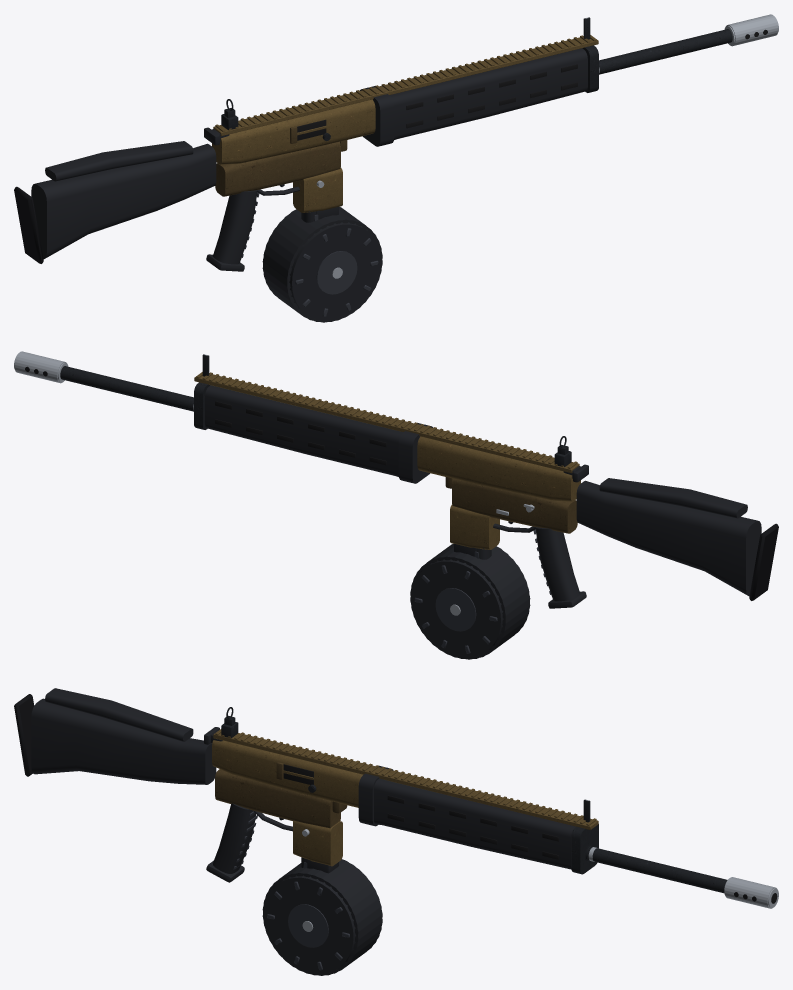
The model's file is dmr14.glb.
3 renders of one model, top to bottom at view 1: azimuth 30°, elevation 25°; view 2: azimuth 150°, elevation 25°; view 3: azimuth 330°, elevation 25°, orthographic.
Visible parts, largest first — view 1: dmr14_body, dmr14_stock, mag_drum; view 2: dmr14_body, dmr14_stock, mag_drum; view 3: dmr14_body, dmr14_stock, mag_drum, iron_sights.
Part boxes in pixels (x1=…): dmr14_body: x1=204, y1=14, x2=778, y2=271; dmr14_stock: x1=14, y1=141, x2=216, y2=263; mag_drum: x1=262, y1=207, x2=382, y2=322; dmr14_body: x1=14, y1=351, x2=588, y2=608; dmr14_stock: x1=576, y1=478, x2=778, y2=600; mag_drum: x1=410, y1=544, x2=530, y2=659; dmr14_body: x1=204, y1=727, x2=778, y2=908; dmr14_stock: x1=14, y1=688, x2=216, y2=784; mag_drum: x1=262, y1=855, x2=382, y2=975; iron_sights: x1=221, y1=707, x2=590, y2=822.
Size of the model in its own units: 1.18 by 0.3517 by 0.082.
8 materials, 3 textured.
